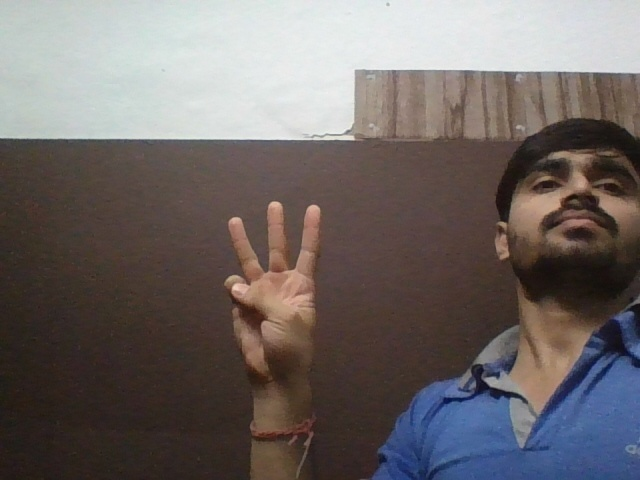W: (219, 196, 331, 391)
